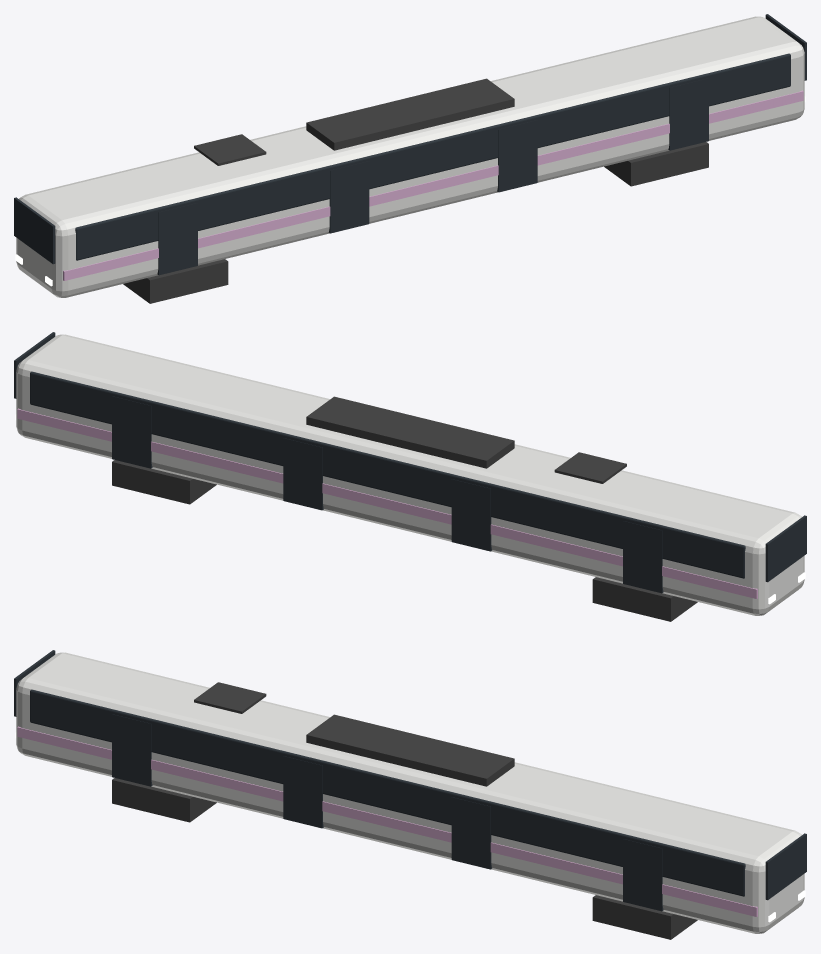
File: ubahn_wagen.glb
The picture shows the model from 3 angles, top to bottom: view 1: azimuth 30°, elevation 25°; view 2: azimuth 150°, elevation 25°; view 3: azimuth 330°, elevation 25°; orthographic projection.
Visible parts, largest first — view 1: Kasten; view 2: Kasten; view 3: Kasten.
Part boxes in pixels (left/top/right/bottom): Kasten: left=14, top=14, right=806, bottom=303; Kasten: left=14, top=332, right=806, bottom=621; Kasten: left=14, top=650, right=806, bottom=939.
Bounding box in the file's own units: 25.1 × 3.71 × 2.71.
